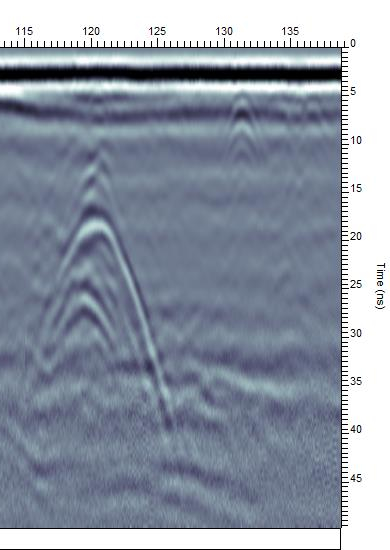hyperbola: (35, 208, 176, 431), (221, 92, 266, 159)
